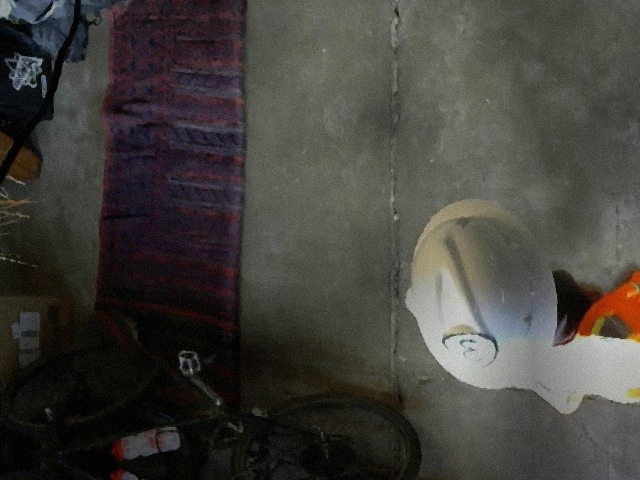three: (442, 328, 497, 371)
